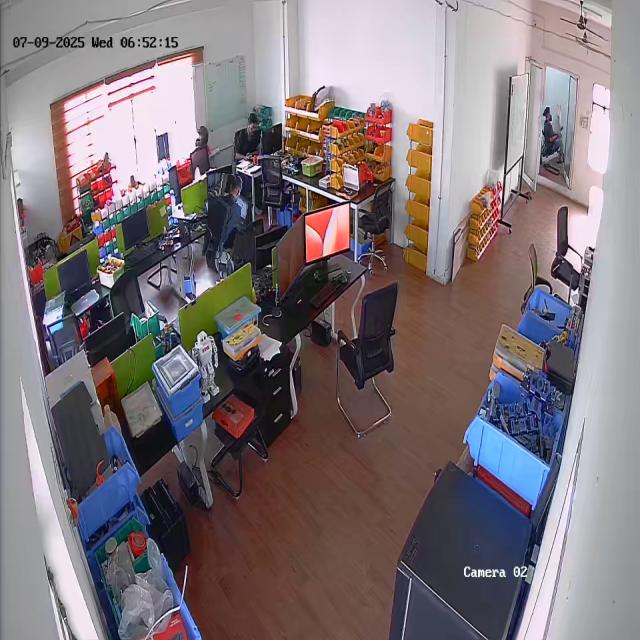person: (205, 173, 249, 260), (233, 111, 267, 164), (540, 105, 563, 164)
